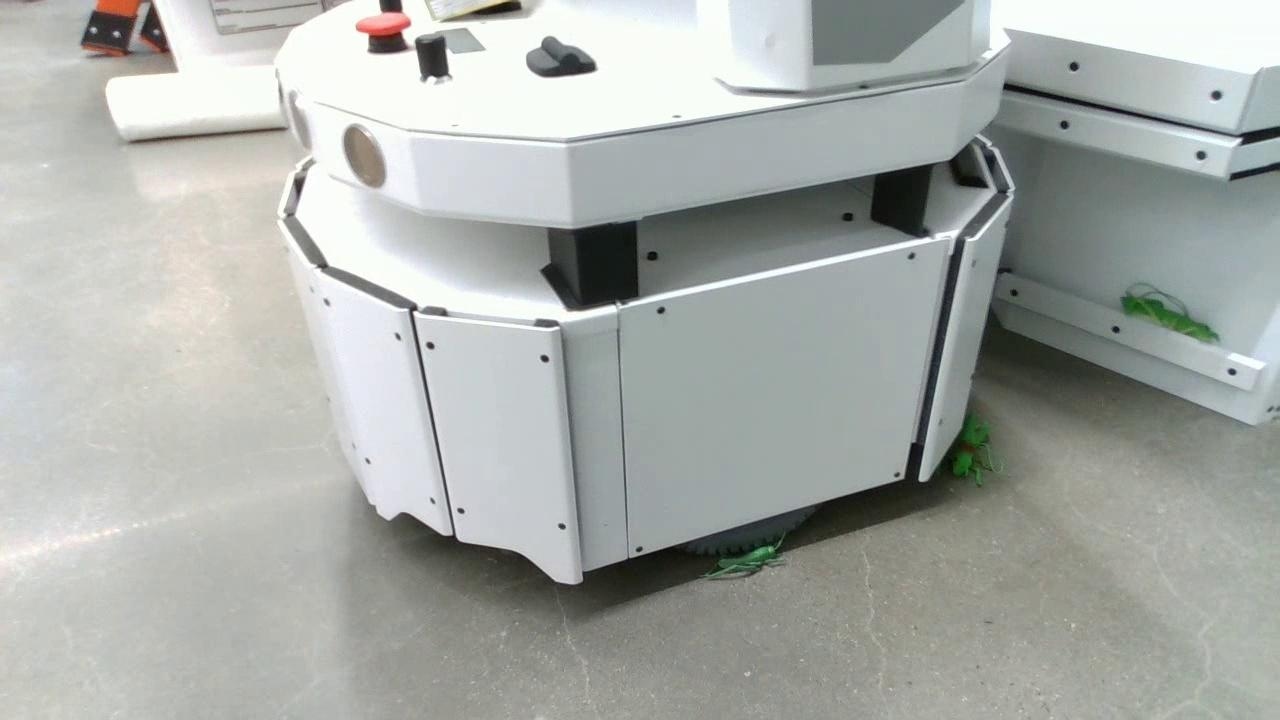grasshopper: (1122, 290, 1213, 352), (949, 413, 989, 486)
